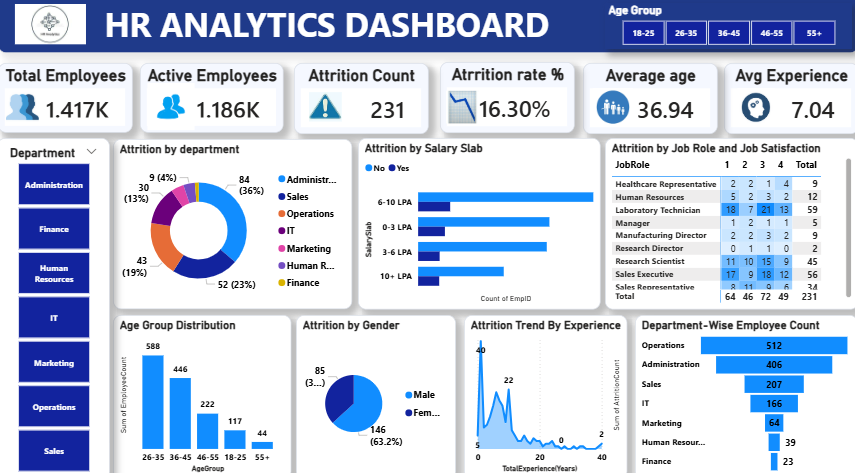

This screenshot's page, from the dashboard's own definition file:
{"tool":"powerbi","page":{"name":"Page 1","canvas":[1280,720],"ordinal":0},"visuals":[{"type":"textbox","box":[10,0,1259,85],"z":0},{"type":"cardVisual","title":"Total Employees","fields":{"Data":["CountNonNull(HR_Analytics-4.EmpID)"]},"box":[10.1,99.1,196.5,102.5],"z":1000},{"type":"cardVisual","title":"Active Employees","fields":{"Data":["CountNonNull(HR_Analytics-4.EmployeeCount)"]},"box":[218.4,99.1,210,102.5],"z":2000},{"type":"cardVisual","title":"Avg Experience","fields":{"Data":["Avg(HR_Analytics-4.YearsatCompany)"]},"box":[1073.4,99.1,196.5,104.1],"z":3000},{"type":"cardVisual","title":"Average age","fields":{"Data":["Avg(HR_Analytics-4.Age)"]},"box":[866.8,99.1,196.5,104.1],"z":4000},{"type":"cardVisual","title":"Atrrition rate %","fields":{"Data":["HR_Analytics-4.Attrition rate %"]},"box":[656.8,97.4,196.5,104.1],"z":5000},{"type":"cardVisual","title":"Attrition Count","fields":{"Data":["Sum(HR_Analytics-4.AttritionCount)"]},"box":[443.5,99.1,196.5,104.1],"z":6000},{"type":"donutChart","title":"Attrition by department","fields":{"Category":["HR_Analytics-4.Department"],"Y":["Sum(HR_Analytics-4.AttritionCount)"]},"box":[178,210,350,249],"z":7000},{"type":"clusteredBarChart","title":"Attrition by Salary Slab","fields":{"Category":["HR_Analytics-4.SalarySlab"],"Y":["CountNonNull(HR_Analytics-4.EmpID)"],"Series":["HR_Analytics-4.Attrition"]},"box":[537,209,355,251],"z":8000},{"type":"pivotTable","title":"Attrition by Job Role and Job Satisfaction","fields":{"Rows":["HR_Analytics-4.JobRole"],"Values":["Sum(HR_Analytics-4.AttritionCount)"],"Columns":["HR_Analytics-4.JobSatisfaction"]},"box":[898,209,371,251],"z":9000},{"type":"columnChart","title":"Age Group Distribution","fields":{"Category":["HR_Analytics-4.AgeGroup"],"Y":["Sum(HR_Analytics-4.EmployeeCount)"]},"box":[179,469,261,240],"z":10000},{"type":"pieChart","title":"Attrition by Gender","fields":{"Category":["HR_Analytics-4.Gender"],"Y":["Sum(HR_Analytics-4.AttritionCount)"]},"box":[447,469,234,240.2],"z":11000},{"type":"areaChart","title":"Attrition Trend By Experience","fields":{"Category":["HR_Analytics-4.TotalExperience(Years)"],"Y2":["Sum(HR_Analytics-4.AttritionCount)"]},"box":[692.1,468.7,238.5,240.2],"z":12000},{"type":"funnel","title":"Department-Wise Employee Count","fields":{"Category":["HR_Analytics-4.Department"],"Y":["CountNonNull(HR_Analytics-4.EmpID)"]},"box":[942.4,468.7,325.9,240.2],"z":13000},{"type":"slicer","fields":{"Values":["HR_Analytics-4.Department"]},"box":[9,209,165,500],"z":14000},{"type":"slicer","title":"Age Group","fields":{"Values":["HR_Analytics-4.AgeGroup"]},"box":[898,12,361,68],"z":15000},{"type":"image","box":[810.7,136.1,199,55.6],"z":16000},{"type":"image","box":[0,13.2,174.1,58.5],"z":17000},{"type":"image","box":[163.9,128.8,199,68.8],"z":18000},{"type":"image","box":[1020,136.1,199,55.6],"z":19000},{"type":"image","box":[22,136.1,48.3,55.6],"z":20000},{"type":"image","box":[665.9,136.1,48.3,55.6],"z":21000},{"type":"image","box":[465.4,136.1,48.3,55.6],"z":22000}]}

Visuals, with their boxes in screenshot pixels (x1, y1, x2, y2), scaled from the page's 1280x720 canvas onto the 855x473 screenshot:
textbox: [x1=7, y1=0, x2=848, y2=56]
"Total Employees" cardVisual: [x1=7, y1=65, x2=138, y2=132]
"Active Employees" cardVisual: [x1=146, y1=65, x2=286, y2=132]
"Avg Experience" cardVisual: [x1=717, y1=65, x2=848, y2=133]
"Average age" cardVisual: [x1=579, y1=65, x2=710, y2=133]
"Atrrition rate %" cardVisual: [x1=439, y1=64, x2=570, y2=132]
"Attrition Count" cardVisual: [x1=296, y1=65, x2=428, y2=133]
"Attrition by department" donutChart: [x1=119, y1=138, x2=353, y2=302]
"Attrition by Salary Slab" clusteredBarChart: [x1=359, y1=137, x2=596, y2=302]
"Attrition by Job Role and Job Satisfaction" pivotTable: [x1=600, y1=137, x2=848, y2=302]
"Age Group Distribution" columnChart: [x1=120, y1=308, x2=294, y2=466]
"Attrition by Gender" pieChart: [x1=299, y1=308, x2=455, y2=466]
"Attrition Trend By Experience" areaChart: [x1=462, y1=308, x2=622, y2=466]
"Department-Wise Employee Count" funnel: [x1=629, y1=308, x2=847, y2=466]
slicer - HR_Analytics-4.Department: [x1=6, y1=137, x2=116, y2=466]
"Age Group" slicer: [x1=600, y1=8, x2=841, y2=53]
image: [x1=542, y1=89, x2=674, y2=126]
image: [x1=0, y1=9, x2=116, y2=47]
image: [x1=109, y1=85, x2=242, y2=130]
image: [x1=681, y1=89, x2=814, y2=126]
image: [x1=15, y1=89, x2=47, y2=126]
image: [x1=445, y1=89, x2=477, y2=126]
image: [x1=311, y1=89, x2=343, y2=126]
